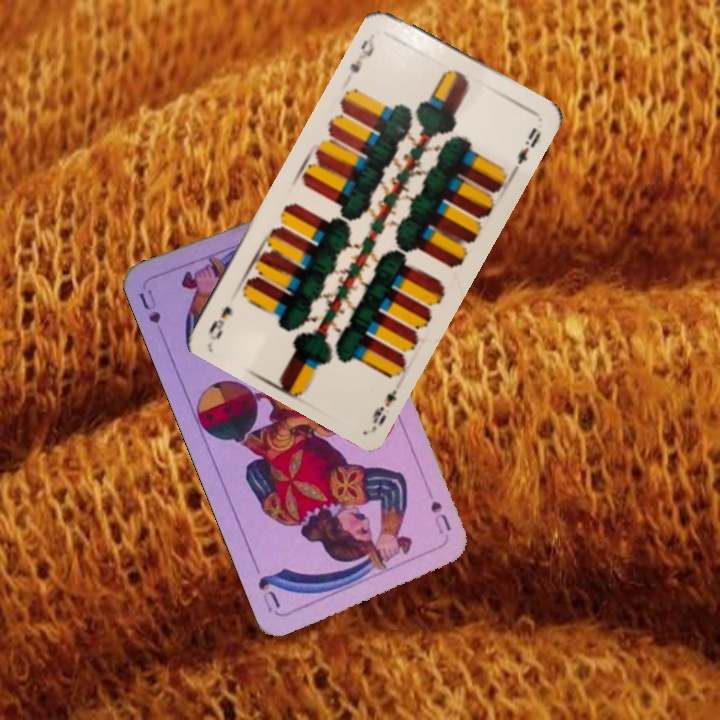E9: (345, 29, 378, 77), (368, 385, 400, 428)
SU: (135, 284, 164, 326), (426, 496, 454, 537)
